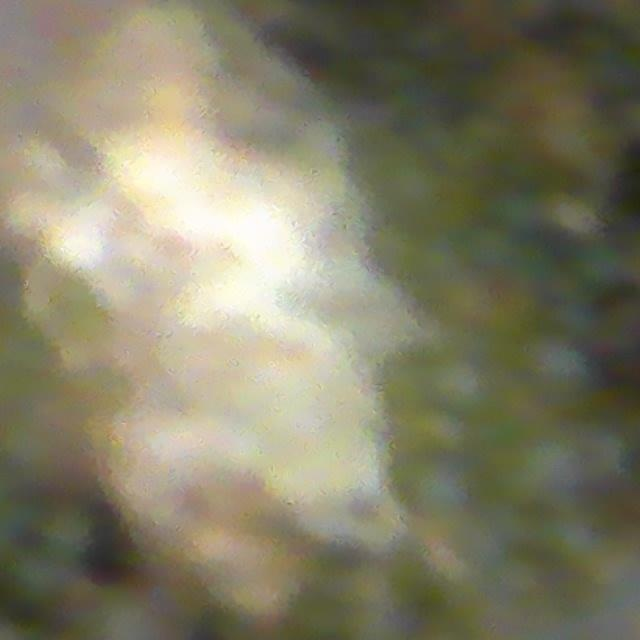SeaGrape: (400, 447, 483, 529)
